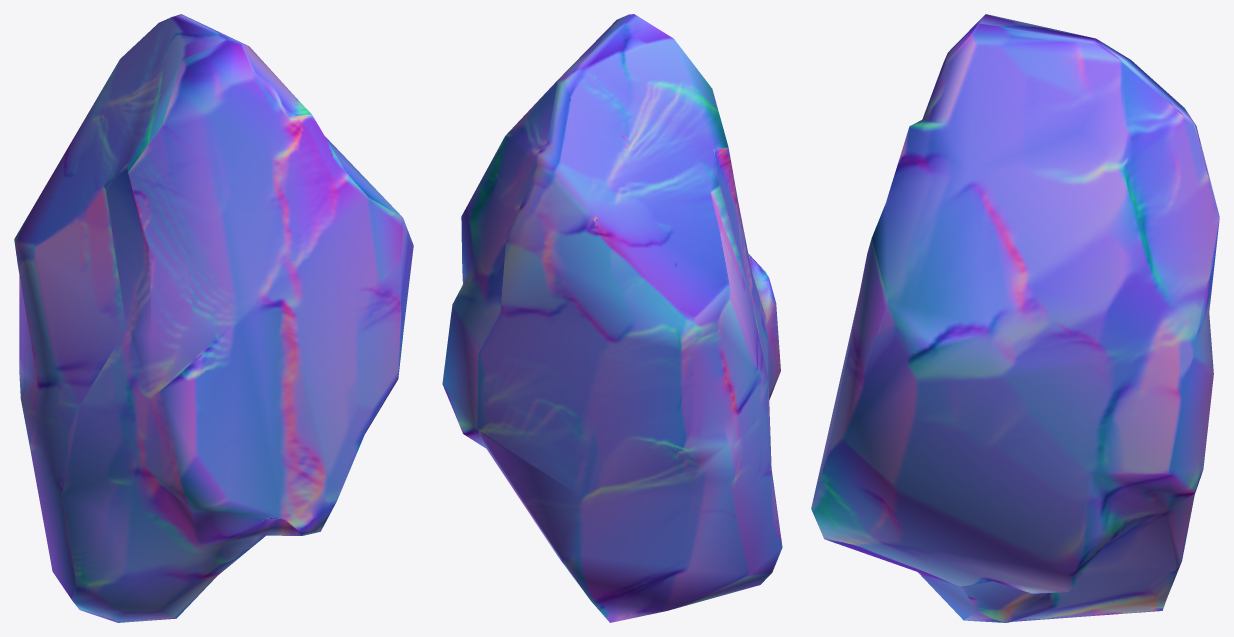
File: SM_Rock_01b.fbx
The picture shows the model from 3 angles, left to right: view 1: azimuth 30°, elevation 25°; view 2: azimuth 150°, elevation 25°; view 3: azimuth 270°, elevation 25°; orthographic projection. The views are drawn at different scales.
Visible parts, largest first — view 1: SM_Rock_01b_LOD0; view 2: SM_Rock_01b_LOD0; view 3: SM_Rock_01b_LOD0.
Boxes of the visible parts, x1=… form: SM_Rock_01b_LOD0: x1=14, y1=14, x2=413, y2=622; SM_Rock_01b_LOD0: x1=442, y1=14, x2=782, y2=622; SM_Rock_01b_LOD0: x1=811, y1=14, x2=1219, y2=622.
Size of the model in its own units: 489 by 501 by 854.
